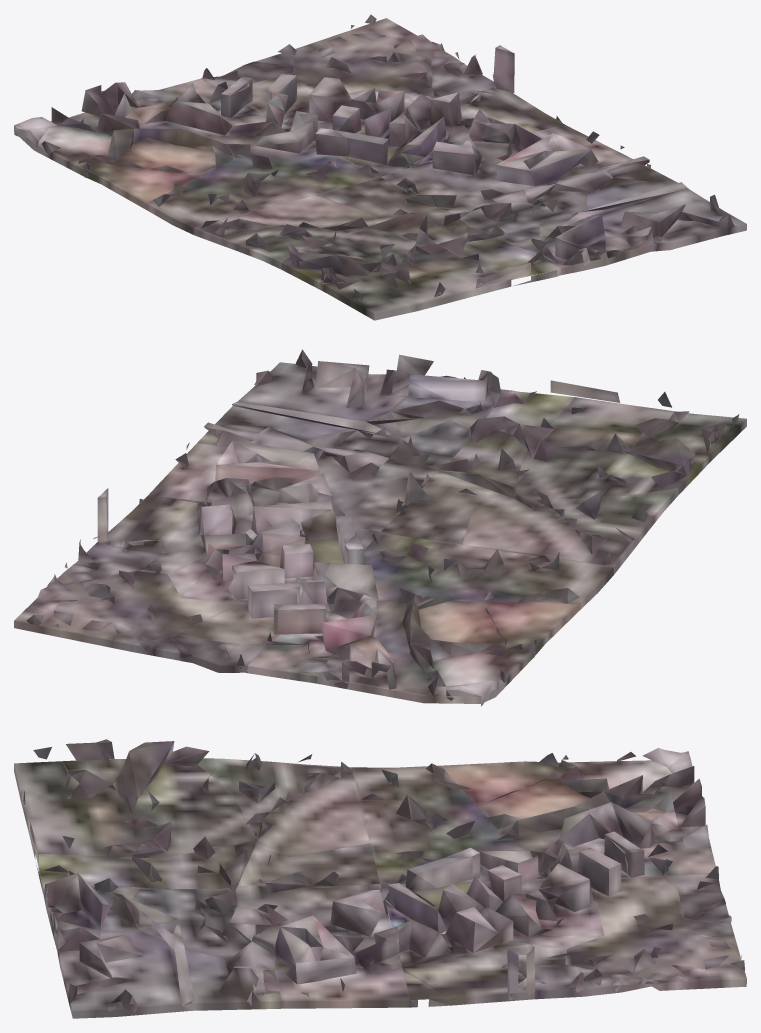
The picture shows the model from 3 angles, top to bottom: view 1: azimuth 30°, elevation 25°; view 2: azimuth 150°, elevation 25°; view 3: azimuth 270°, elevation 25°; orthographic projection. The views are drawn at different scales.
Parts seen in each view (by area): view 1: Mesh_0; view 2: Mesh_0; view 3: Mesh_0.
Boxes of the visible parts, box(x1,y1,x2,y2) form: Mesh_0: box(14, 14, 746, 320); Mesh_0: box(14, 349, 746, 706); Mesh_0: box(14, 739, 746, 1018).
Size of the model in its own units: 532 by 71.35 by 659.
Materials: 1 (1 with a texture image).
